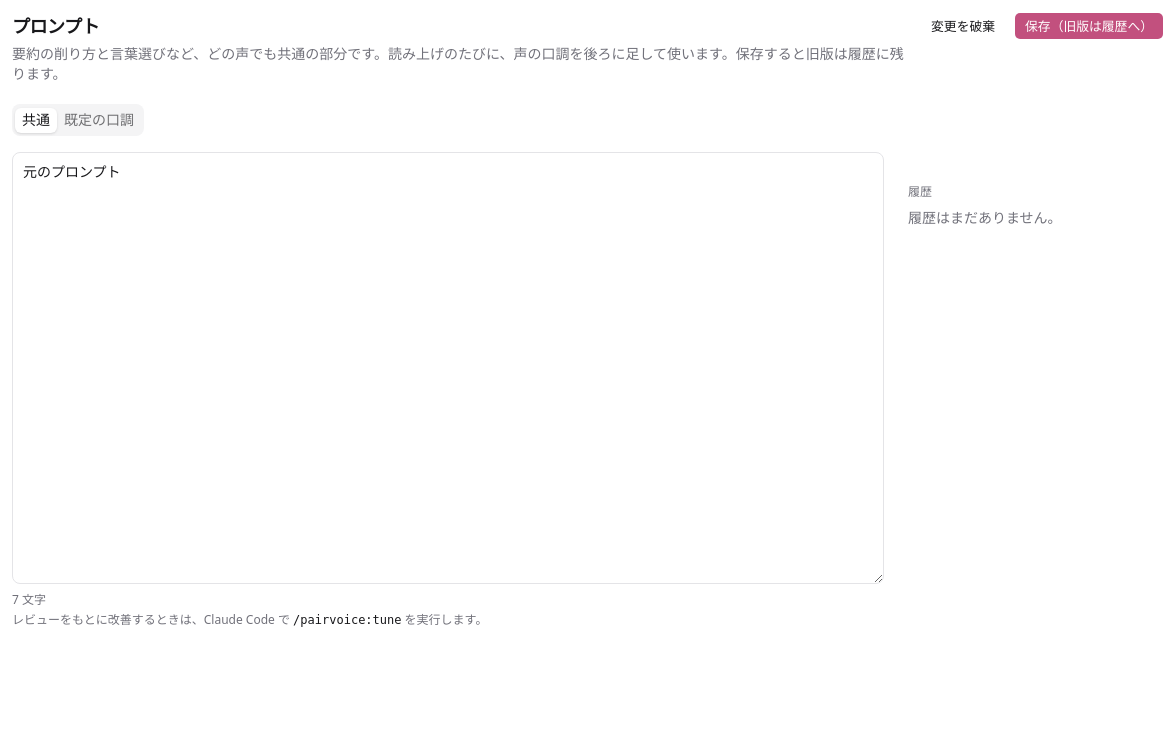
保存中に打ち足した分は、保存した本文が戻ってきても消さない
The image size is (1176, 732).
Replace the text in the text box named "プロンプト" with "保存する本文". click: coordinates (448, 368)
box: x1=12 y1=152 x2=884 y2=584
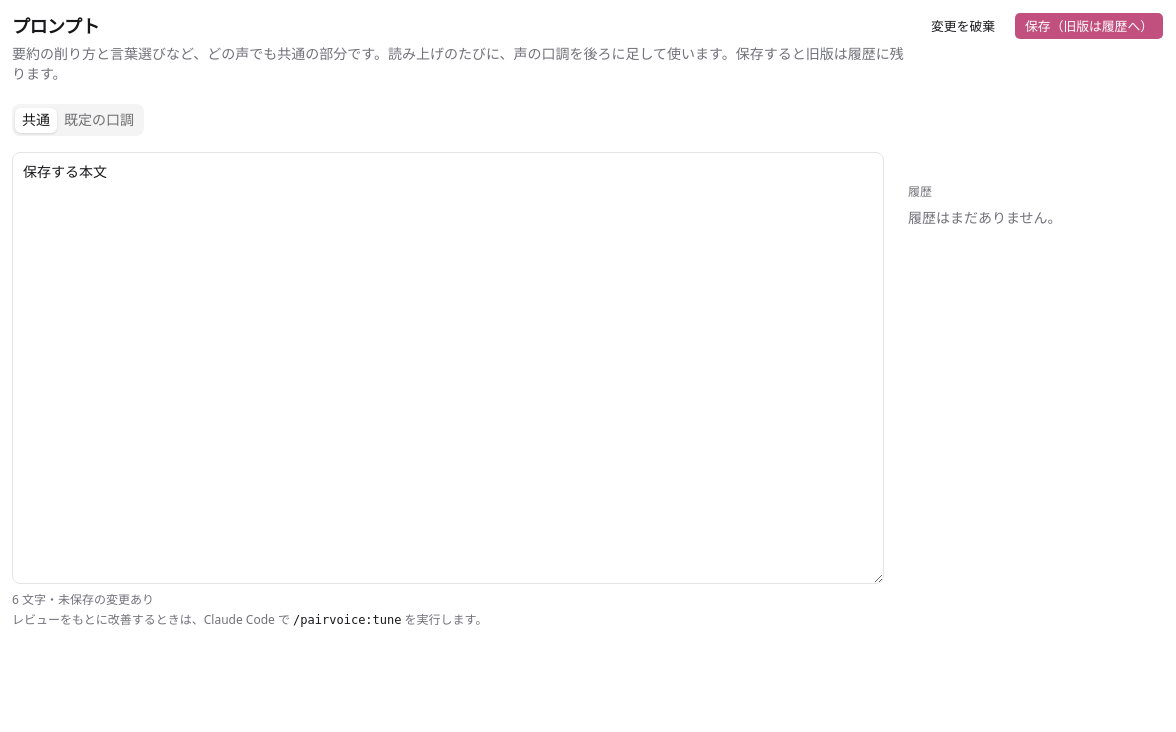
Click the button "保存（旧版は履歴へ）". click: coordinates (1089, 26)
box: x1=1014 y1=12 x2=1164 y2=40
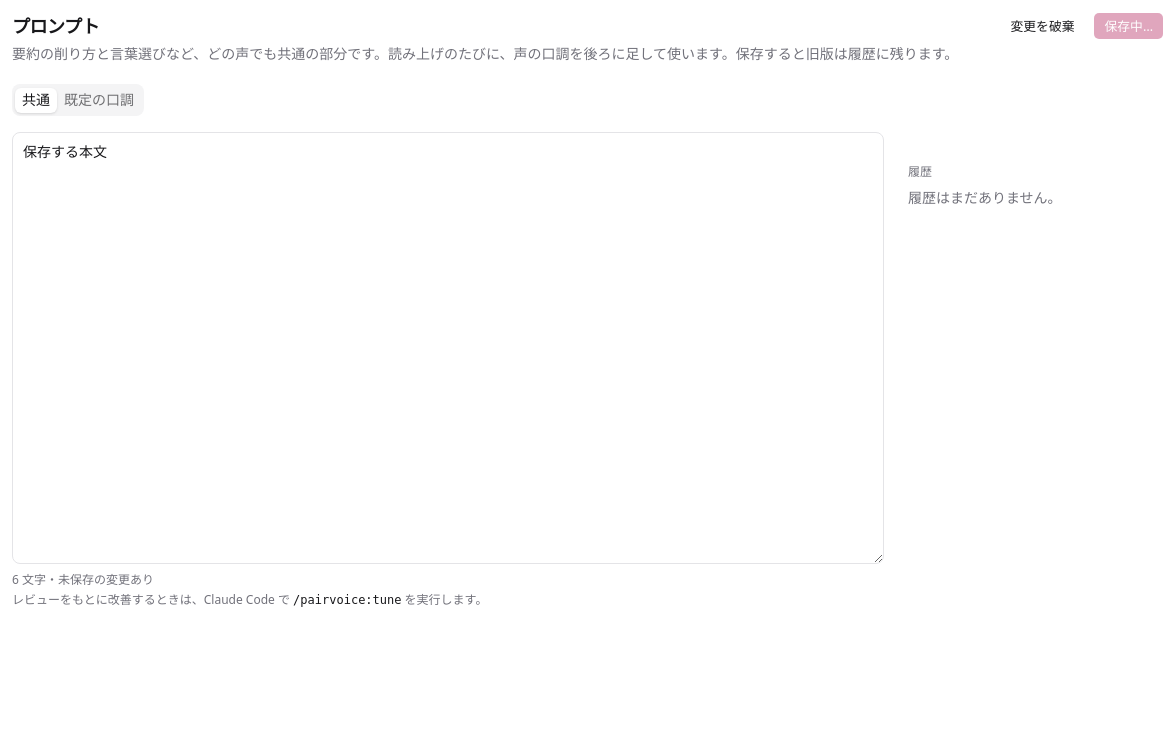
Replace the text in the text box named "プロンプト" with "保存する本文に打ち足した". click: coordinates (448, 348)
box: x1=12 y1=132 x2=884 y2=564
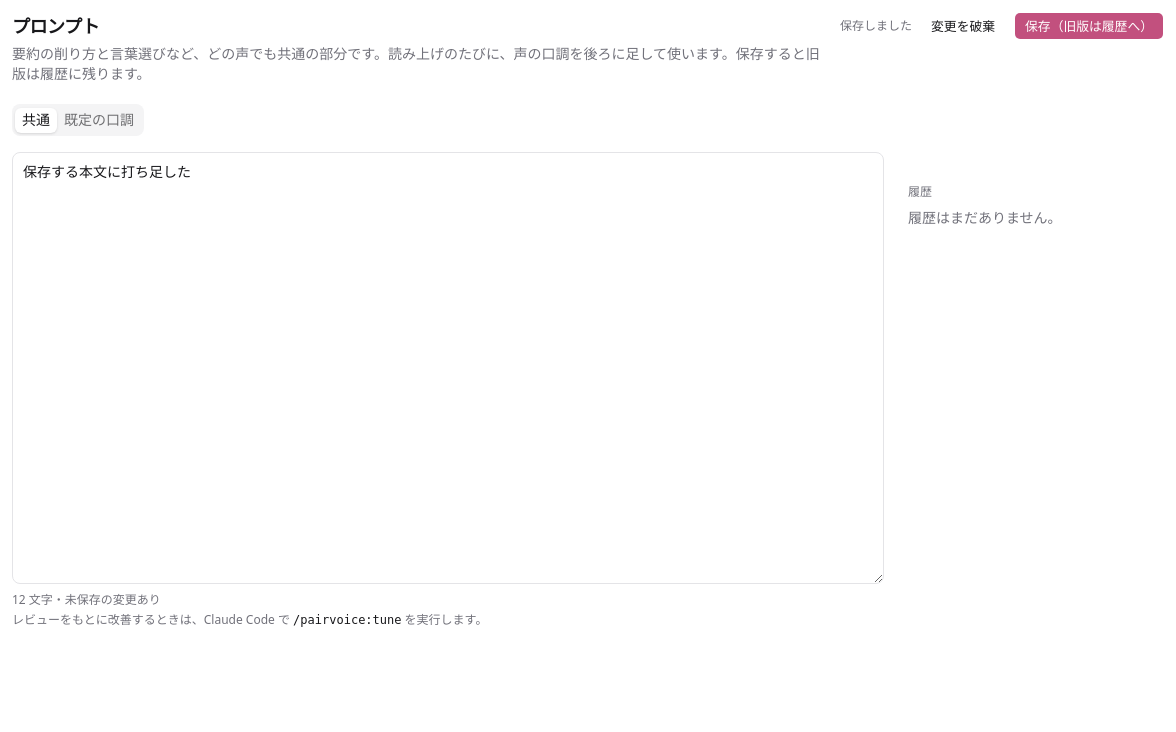
Expected: the text "保存しました" is shown, x1=840 y1=18 x2=912 y2=34
